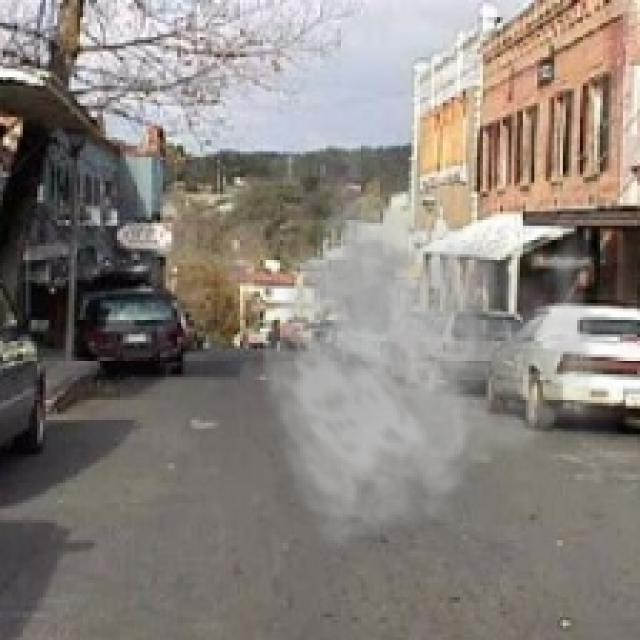Smoke: (260, 157, 629, 549)
